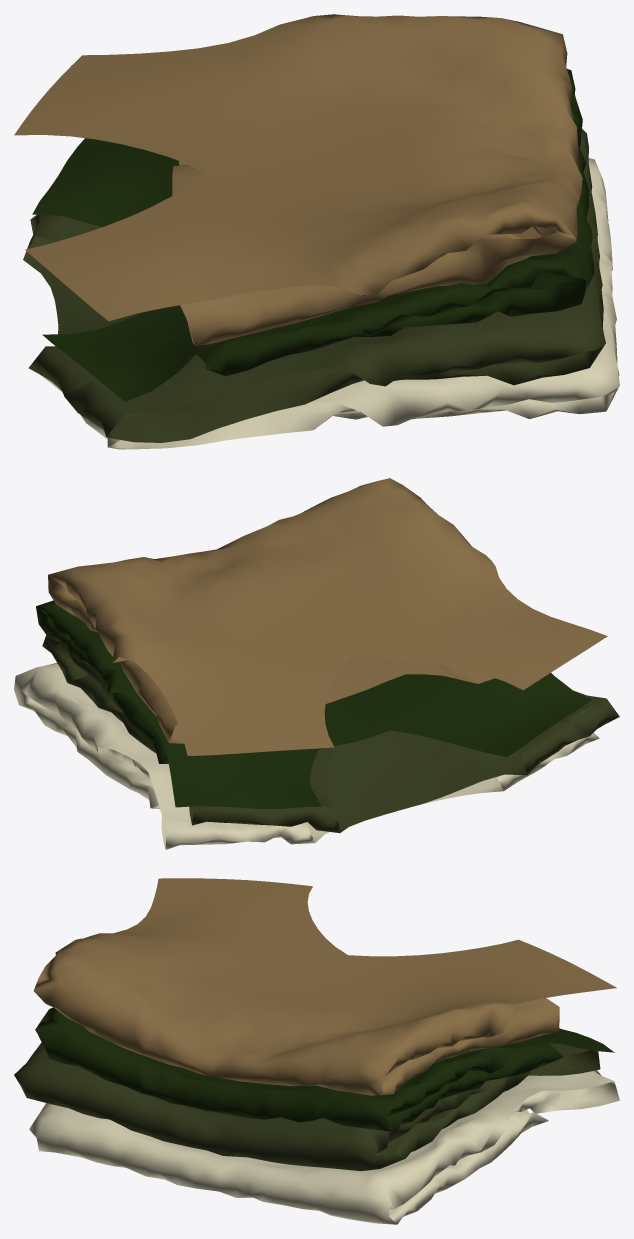
File: kledingstapelgevaldingens.fbx
3 renders of one model, top to bottom at view 1: azimuth 30°, elevation 25°; view 2: azimuth 150°, elevation 25°; view 3: azimuth 270°, elevation 25°, orthographic. The views are drawn at different scales.
Visible parts, largest first — view 1: Pattern2D_307045, Pattern2D_307044, Pattern2D_307043, Pattern2D_307041, Pattern2D_307042, Pattern2D_293614; view 2: Pattern2D_307045, Pattern2D_307044, Pattern2D_307042, Pattern2D_307041, Pattern2D_293614, Pattern2D_307043; view 3: Pattern2D_307045, Pattern2D_307041, Pattern2D_307044, Pattern2D_307043, Pattern2D_293614, Pattern2D_307042.
Boxes of the visible parts, box(x1,y1,x2,y2) form: Pattern2D_307045: box(14, 14, 582, 345); Pattern2D_307044: box(32, 69, 594, 401); Pattern2D_307043: box(34, 129, 605, 413); Pattern2D_307041: box(310, 158, 619, 426); Pattern2D_307042: box(23, 215, 361, 442); Pattern2D_293614: box(40, 375, 360, 449); Pattern2D_307045: box(48, 478, 607, 755); Pattern2D_307044: box(36, 600, 591, 808); Pattern2D_307042: box(189, 698, 619, 833); Pattern2D_307041: box(14, 663, 307, 828); Pattern2D_293614: box(108, 733, 599, 849); Pattern2D_307043: box(42, 635, 605, 810); Pattern2D_307045: box(33, 878, 616, 1095); Pattern2D_307041: box(29, 1071, 614, 1224); Pattern2D_307044: box(35, 1007, 614, 1131); Pattern2D_307043: box(14, 1043, 589, 1171); Pattern2D_293614: box(511, 1070, 619, 1115); Pattern2D_307042: box(529, 1050, 600, 1075).
Size of the model in its own units: 45.83 by 14.67 by 47.07.
